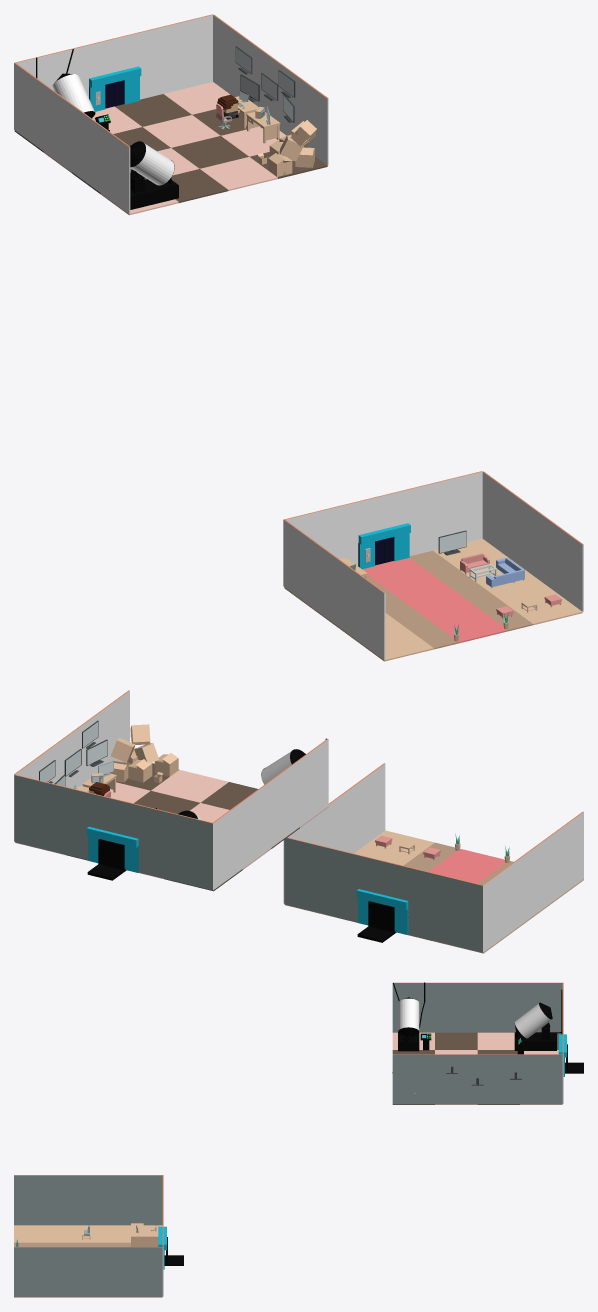
File: office_gameplay.glb
3 views of the same model, one above another, from view 1: azimuth 30°, elevation 25°; view 2: azimuth 150°, elevation 25°; view 3: azimuth 270°, elevation 25° (orthographic). The views are drawn at different scales.
Visible parts, largest first — view 1: Cube.027; view 2: Cube.027; view 3: Cube.027.
Boxes of the visible parts, x1,y1,x2,y2 form: Cube.027: (14,14,583,661); Cube.027: (14,690,583,953); Cube.027: (14,982,583,1297).
Bounding box in the file's own units: 8.1 × 12.65 × 26.83.
